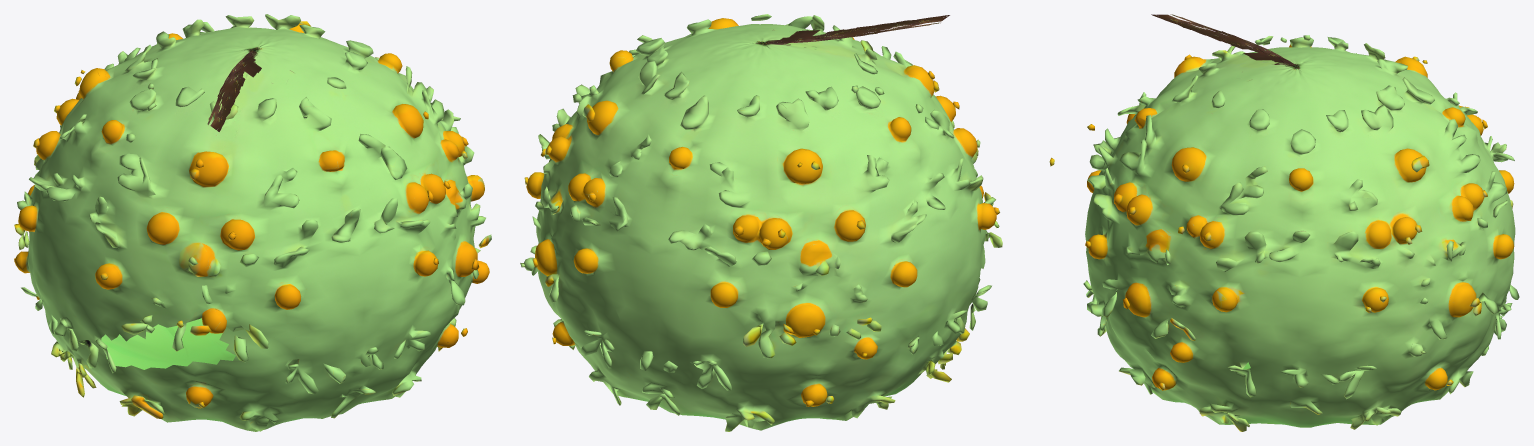
The model's file is berry_bush.glb.
The picture shows the model from 3 angles, left to right: view 1: azimuth 30°, elevation 25°; view 2: azimuth 150°, elevation 25°; view 3: azimuth 270°, elevation 25°; orthographic projection. The views are drawn at different scales.
Size of the model in its own units: 1.9 by 1.5 by 1.89.
Materials: 1 (1 with a texture image).
